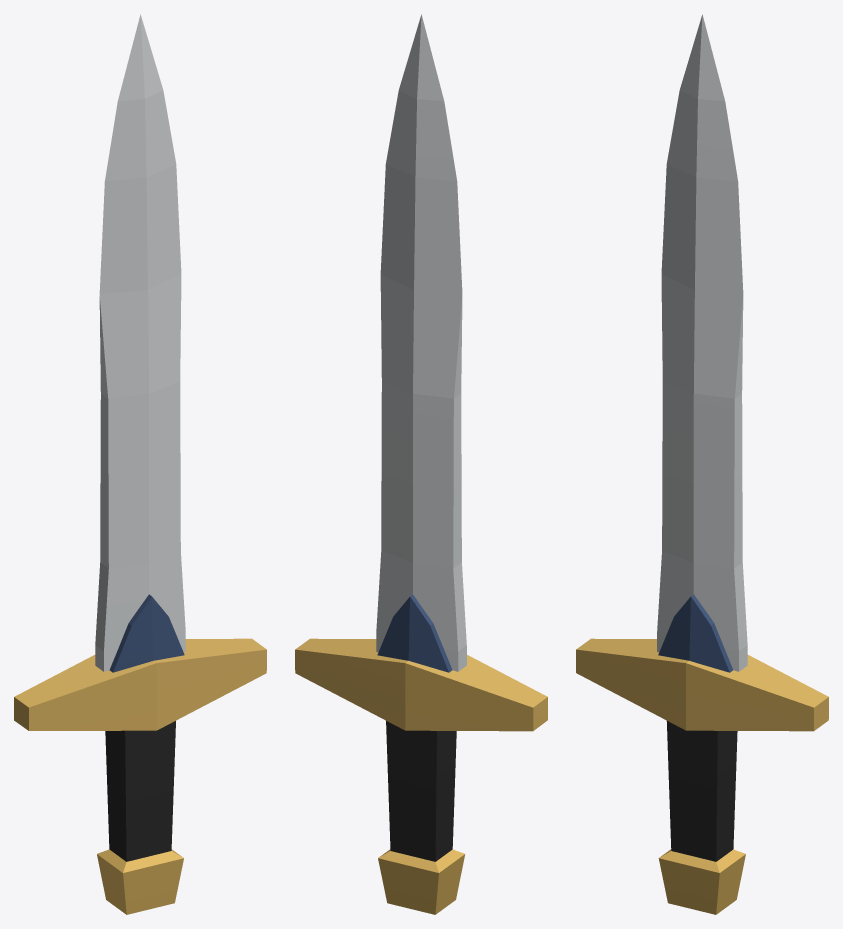
Rendered from Sword_E.fbx.
3 views of the same model, side by side, from view 1: azimuth 30°, elevation 25°; view 2: azimuth 150°, elevation 25°; view 3: azimuth 330°, elevation 25° (orthographic).
Parts seen in each view (by area): view 1: Sword_E; view 2: Sword_E; view 3: Sword_E.
Part boxes in pixels (x1,y1,x2,y2): Sword_E: (14, 14, 266, 914); Sword_E: (295, 14, 547, 914); Sword_E: (576, 14, 828, 914).
Bounding box in the file's own units: 23.1 × 82.25 × 5.46.
